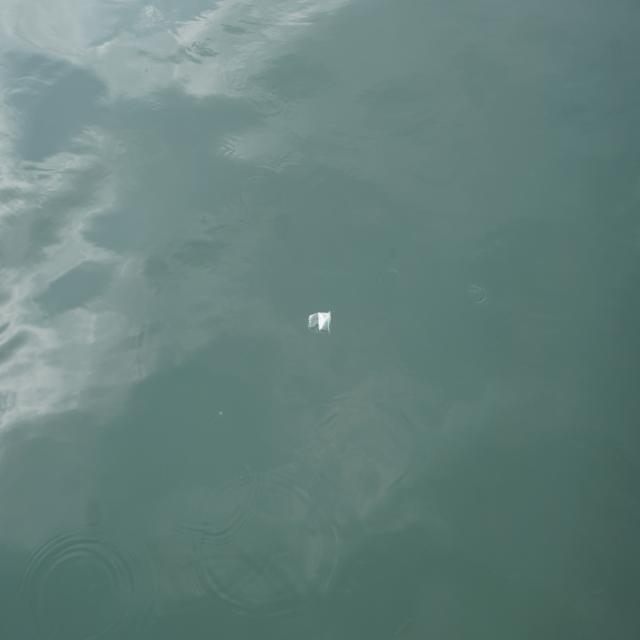Bungkus Minuman: (307, 304, 336, 338)
